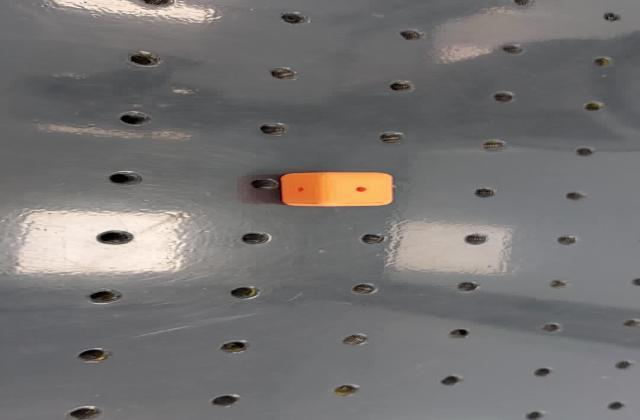cube: (276, 170, 400, 208)
